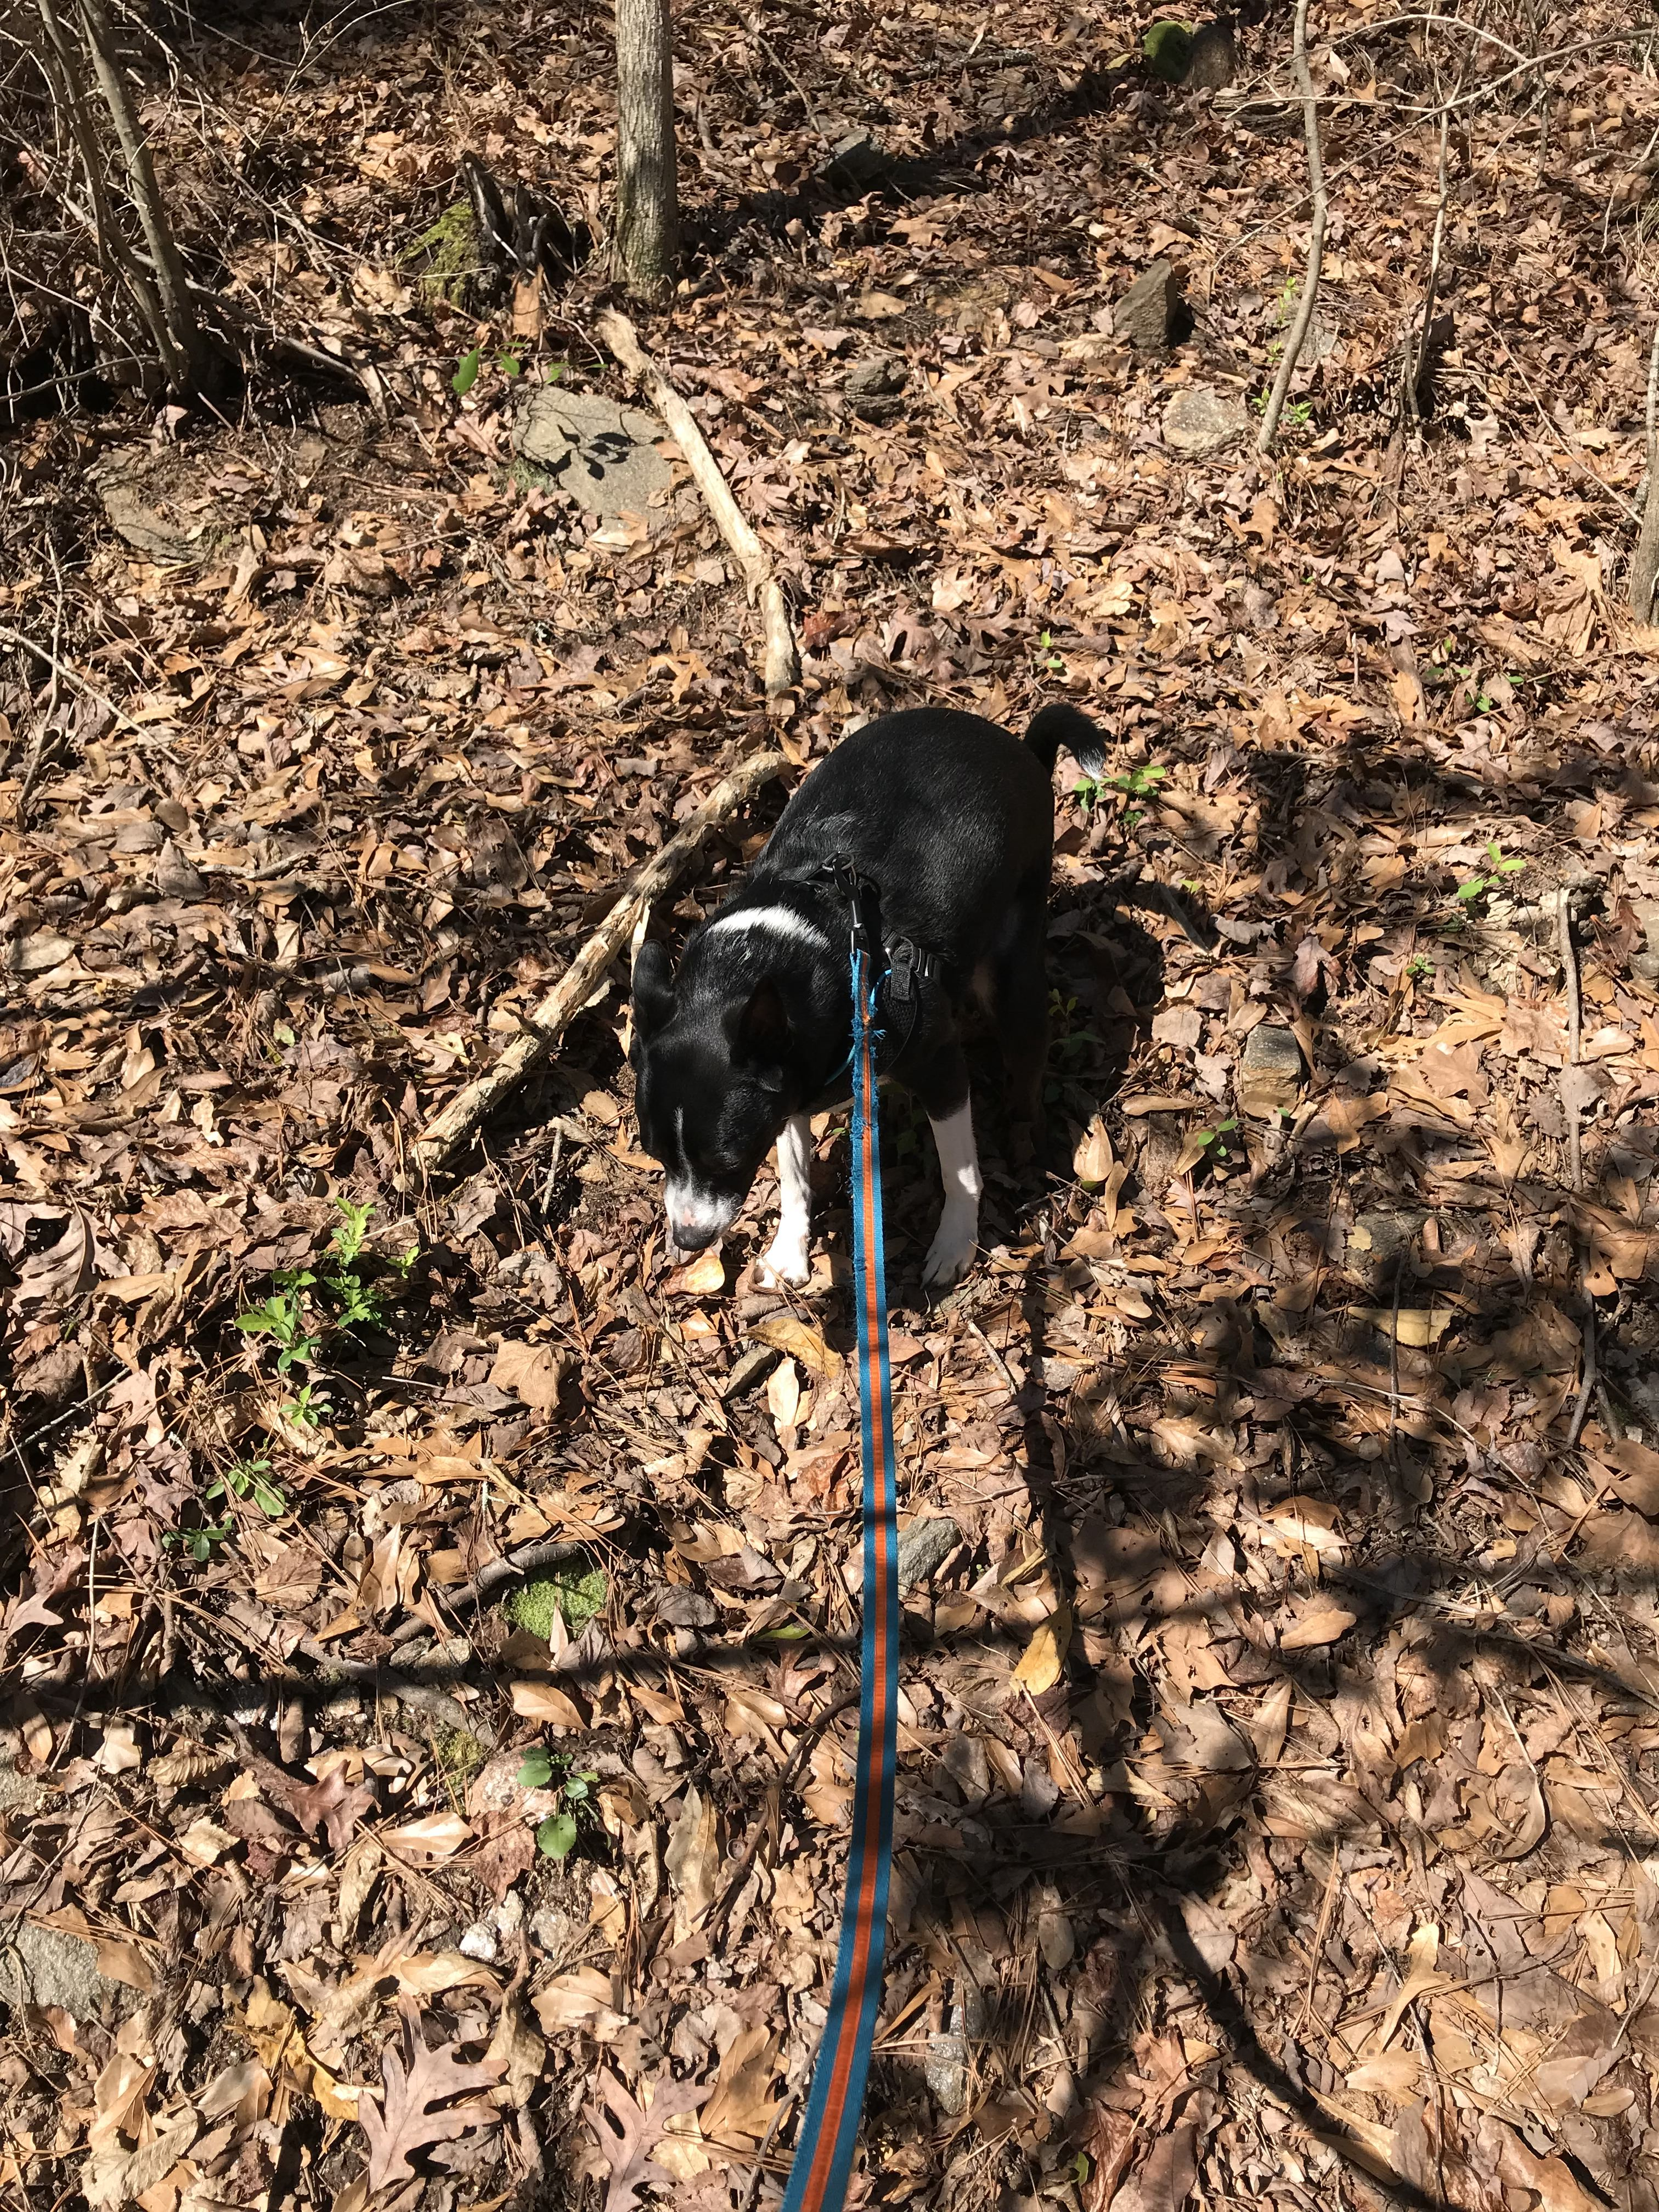Harley: (563, 683, 1155, 1338)
